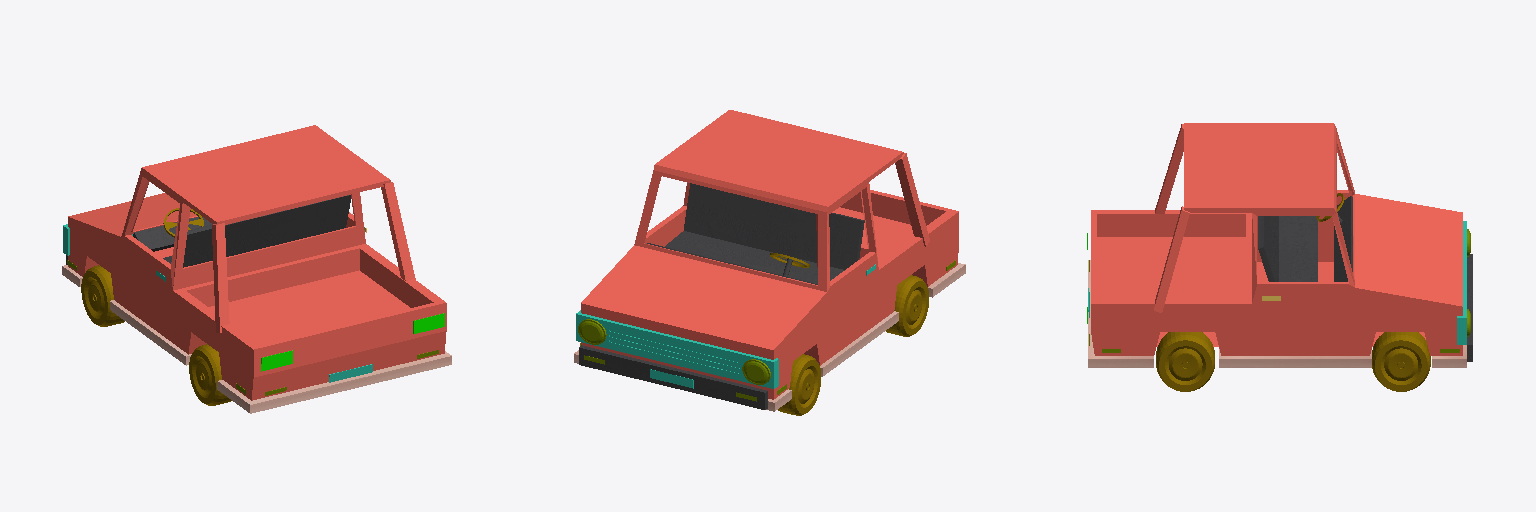
The picture shows the model from 3 angles: view 1: azimuth 30°, elevation 25°; view 2: azimuth 150°, elevation 25°; view 3: azimuth 270°, elevation 25°; orthographic projection.
Parts seen in each view (by area): view 1: Cube_2_3, Cube, Cube_13, Cube_1, Cylinder_7, Cylinder_1_2, Cube_1_2, Cube_2_2, Cube_2, Cube_15; view 2: Cube_2_3, Cube_13, Cube_3_2, Cube_4, Cube_14, Cylinder_1_2, Cylinder_7, Cube, Cube_1_2, Cube_2, Cylinder_2_3, Cylinder_2; view 3: Cube_2_3, Cube, Cylinder_5, Cylinder_6, Cube_14, Cube_2, Cube_13, Cube_2_2, Cube_1, Cube_15, Cube_1_2, Cube_3_2 (+1 smaller).
Boxes of the visible parts, box(x1,y1,x2,y2) form: Cube_2_3: box(68, 125, 446, 400); Cube: box(209, 270, 409, 344); Cube_13: box(183, 195, 350, 267); Cube_1: box(217, 351, 451, 413); Cylinder_7: box(81, 265, 124, 326); Cylinder_1_2: box(189, 344, 231, 405); Cube_1_2: box(212, 223, 229, 332); Cube_2_2: box(381, 182, 415, 280); Cube_2: box(110, 300, 191, 365); Cube_15: box(133, 217, 211, 251); Cube_2_3: box(581, 110, 958, 399); Cube_13: box(684, 183, 864, 269); Cube_3_2: box(576, 310, 778, 388); Cube_4: box(579, 345, 767, 409); Cube_14: box(665, 231, 844, 283); Cylinder_1_2: box(886, 275, 928, 336); Cylinder_7: box(778, 354, 820, 415); Cube: box(832, 207, 913, 260); Cube_1_2: box(895, 153, 929, 246); Cube_2: box(820, 311, 898, 376); Cylinder_2_3: box(742, 359, 770, 384); Cylinder_2: box(578, 319, 606, 344); Cube_2_3: box(1091, 123, 1462, 355); Cube: box(1097, 237, 1245, 298); Cylinder_5: box(1156, 332, 1214, 391); Cylinder_6: box(1372, 332, 1430, 391); Cube_14: box(1279, 216, 1317, 281); Cube_2: box(1219, 349, 1371, 367); Cube_13: box(1258, 216, 1278, 281); Cube_2_2: box(1154, 206, 1189, 312); Cube_1: box(1088, 260, 1153, 367); Cube_15: box(1334, 196, 1352, 281); Cube_1_2: box(1155, 124, 1183, 213); Cube_3_2: box(1457, 221, 1466, 344).
Size of the model in its own units: 43.1 by 36.55 by 71.04.
Materials: 10 (3 with a texture image).